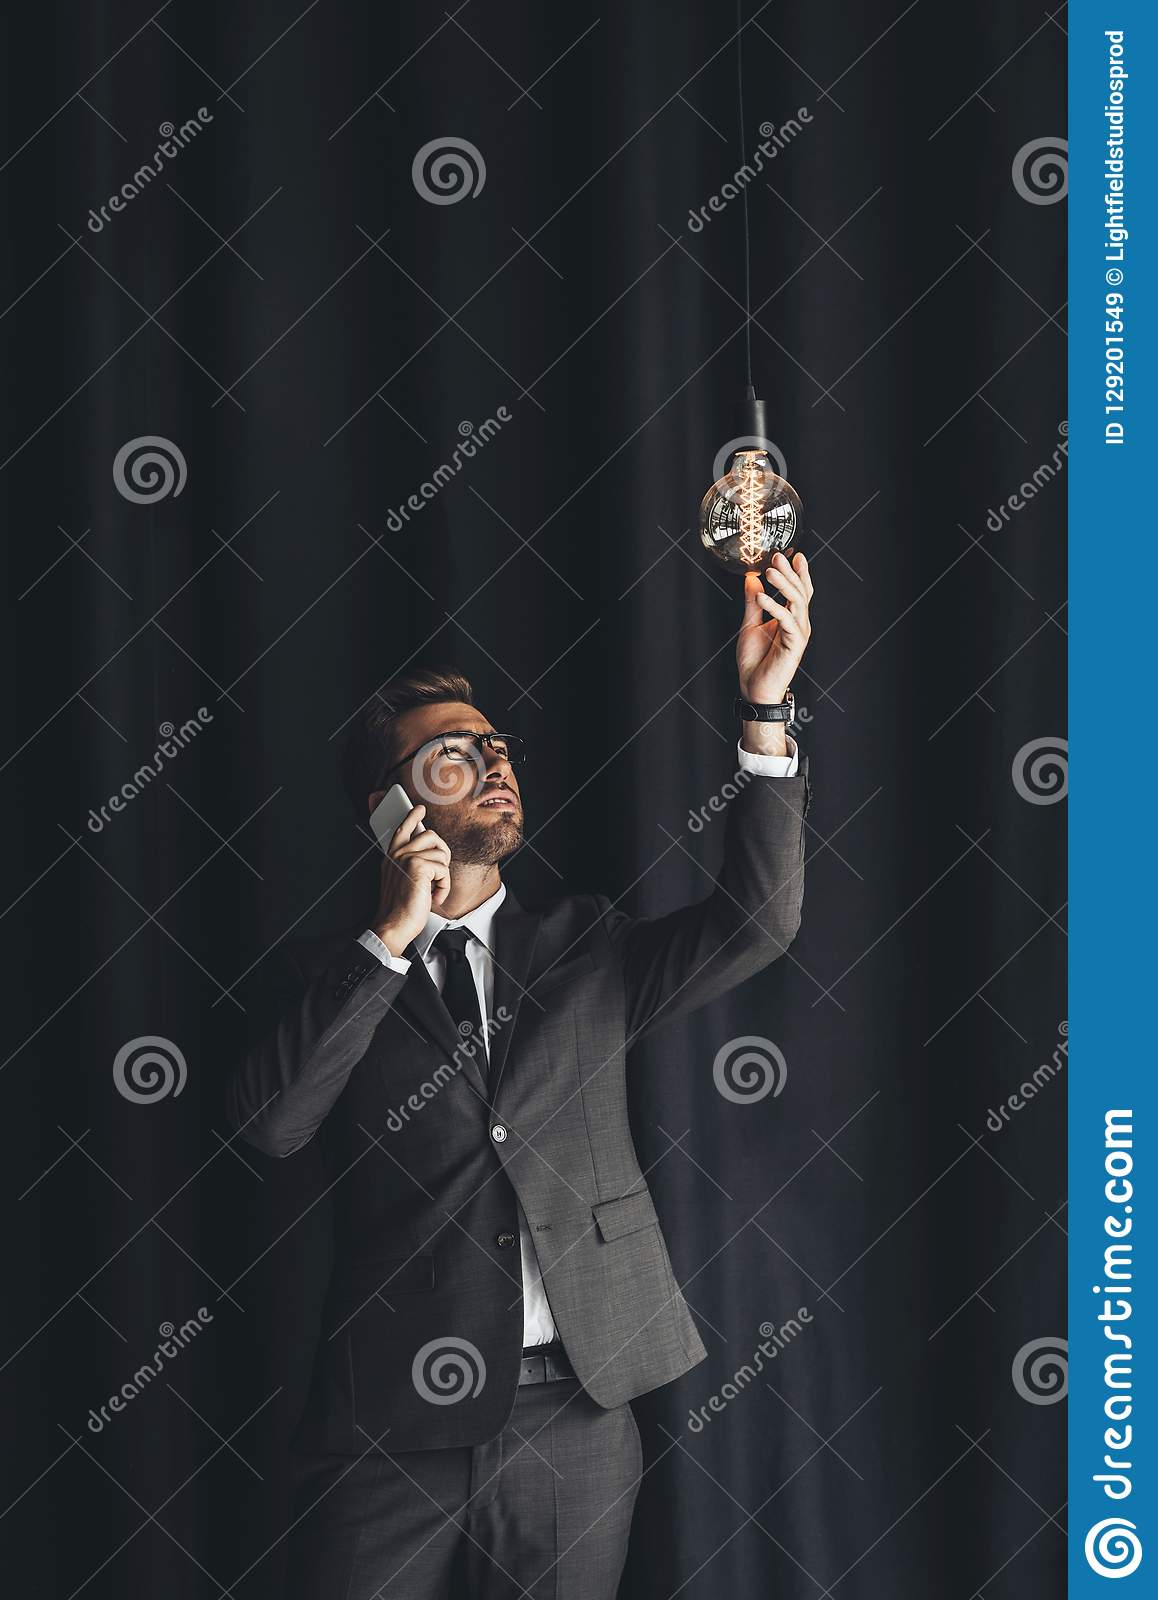phone: (369, 784, 444, 880)
talk: (367, 720, 524, 944)
